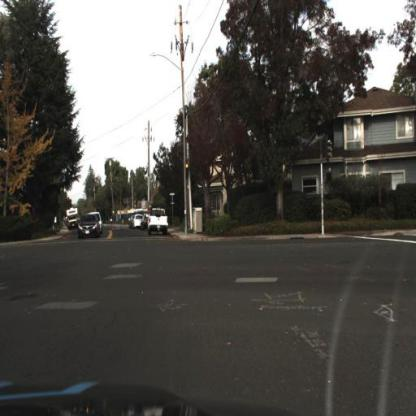car: (145, 206, 172, 241), (75, 210, 102, 241)
trafficLight-Red: (182, 158, 194, 190), (185, 157, 191, 184)
truck: (64, 205, 79, 233)
